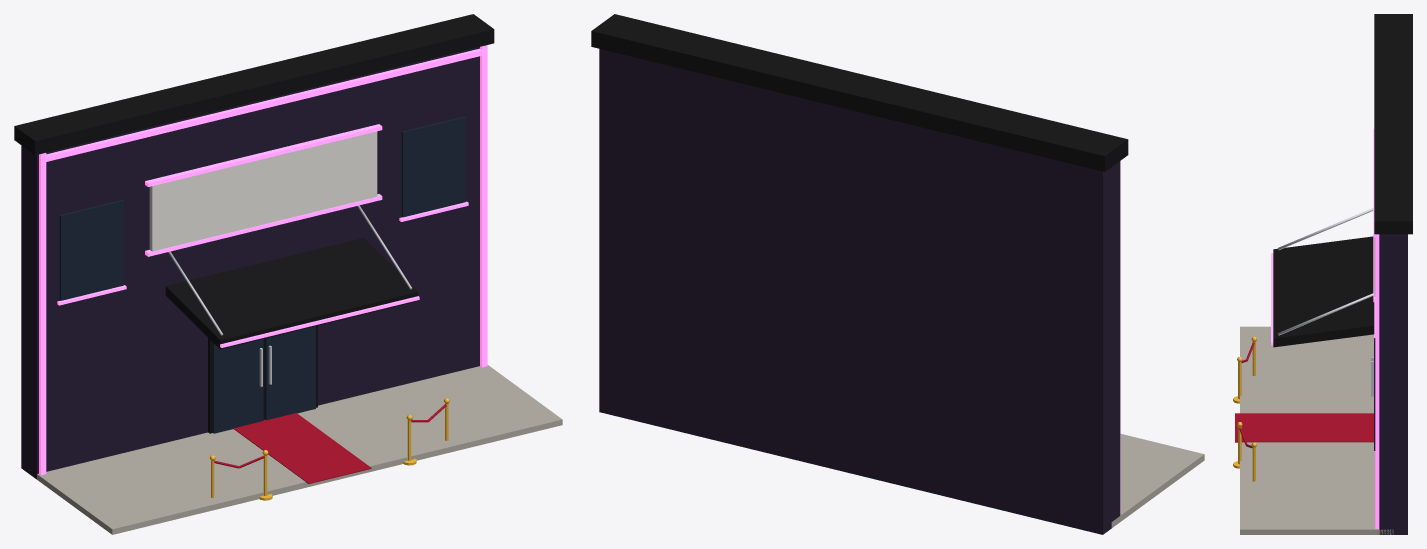
The model's file is club_front.glb.
The picture shows the model from 3 angles, left to right: view 1: azimuth 30°, elevation 25°; view 2: azimuth 150°, elevation 25°; view 3: azimuth 270°, elevation 25°; orthographic projection. The views are drawn at different scales.
Parts seen in each view (by area): view 1: club_front, SignBoard; view 2: club_front; view 3: club_front.
Part boxes in pixels (bbox=[...]): club_front: bbox=[14, 14, 562, 534]; SignBoard: bbox=[149, 131, 377, 251]; club_front: bbox=[591, 14, 1204, 534]; club_front: bbox=[1233, 14, 1412, 534].
Size of the model in its own units: 10.2 by 7.25 by 3.74.
